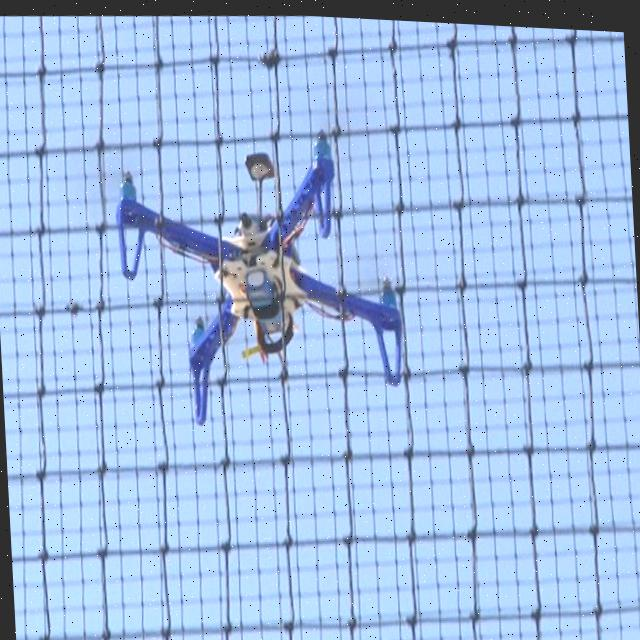drone: (106, 103, 438, 425)
